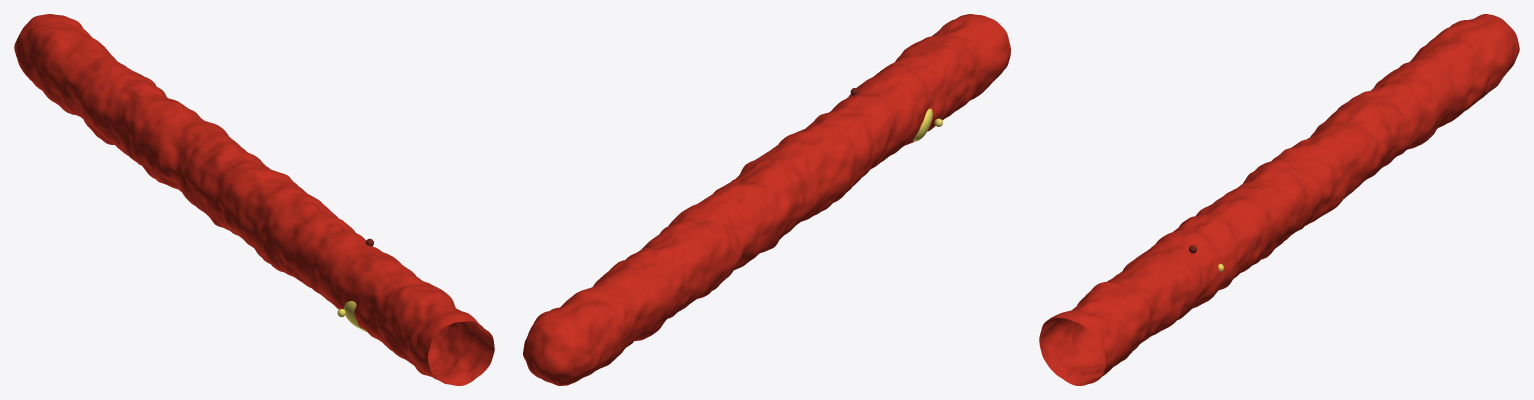
The picture shows the model from 3 angles, left to right: view 1: azimuth 30°, elevation 25°; view 2: azimuth 150°, elevation 25°; view 3: azimuth 330°, elevation 25°; orthographic projection.
Parts seen in each view (by area): view 1: Cylinder; view 2: Cylinder; view 3: Cylinder.
Boxes of the visible parts, x1,y1,x2,y2 form: Cylinder: [14, 14, 494, 385]; Cylinder: [523, 14, 1010, 385]; Cylinder: [1039, 14, 1519, 385].
Bounding box in the file's own units: 210 × 185 × 1984.
